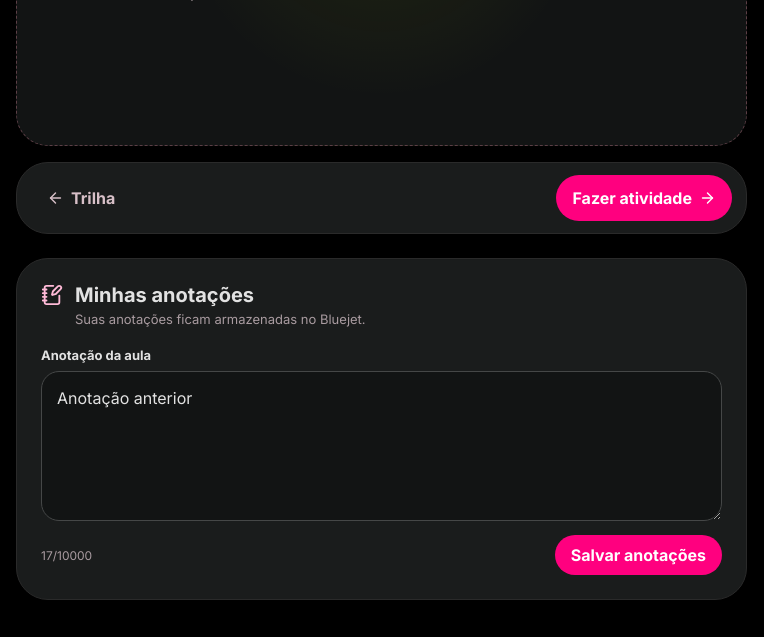
Fluxo de capacitação da Fase 9 › carrega e salva anotações sem inventar vídeo ou materiais
(page scrolled)
Replace the text in the text box labelled "Anotação da aula" with "Nova anotação" at (382, 446), box [41,371,722,521]
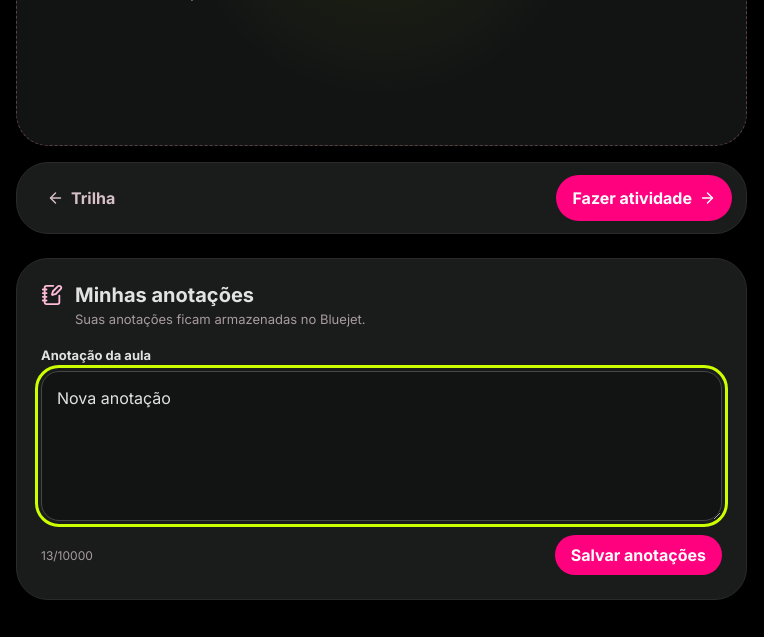
Click the button "Salvar anotações" at (638, 555), box [555,535,722,575]
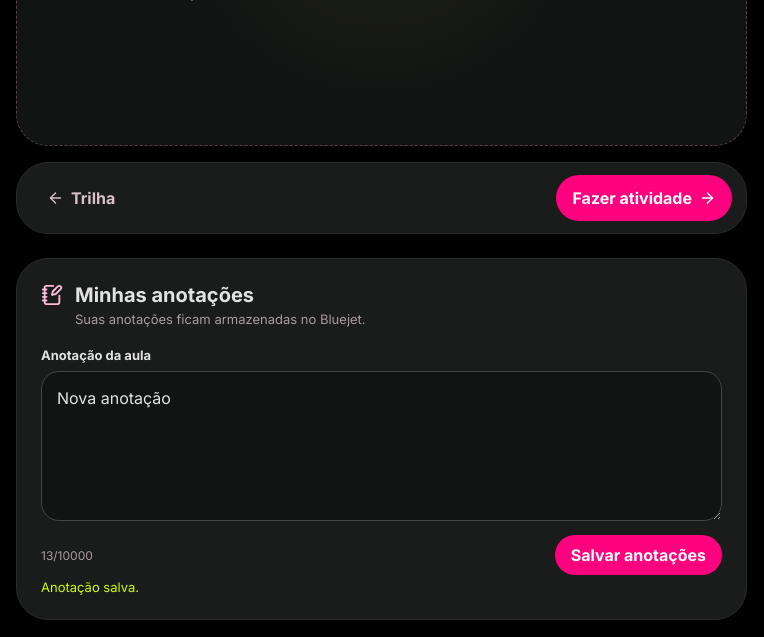
Check: the text "Anotação salva." is shown, box [41,579,139,595]
